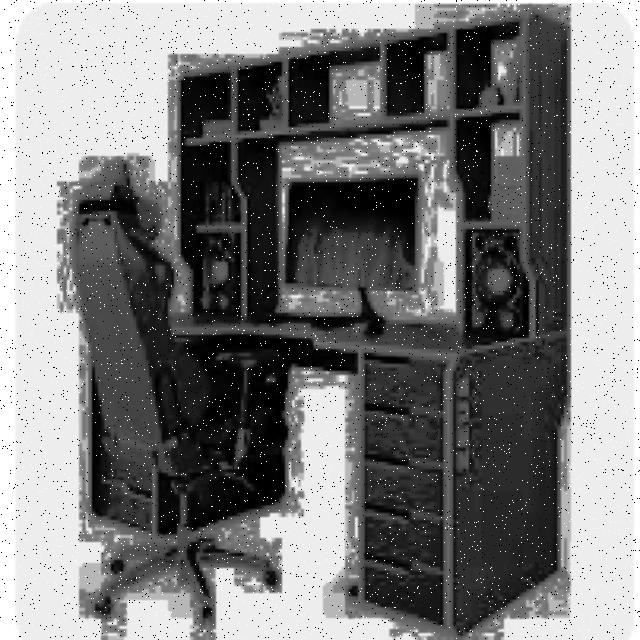book: (70, 168, 288, 626)
table: (165, 309, 567, 633)
